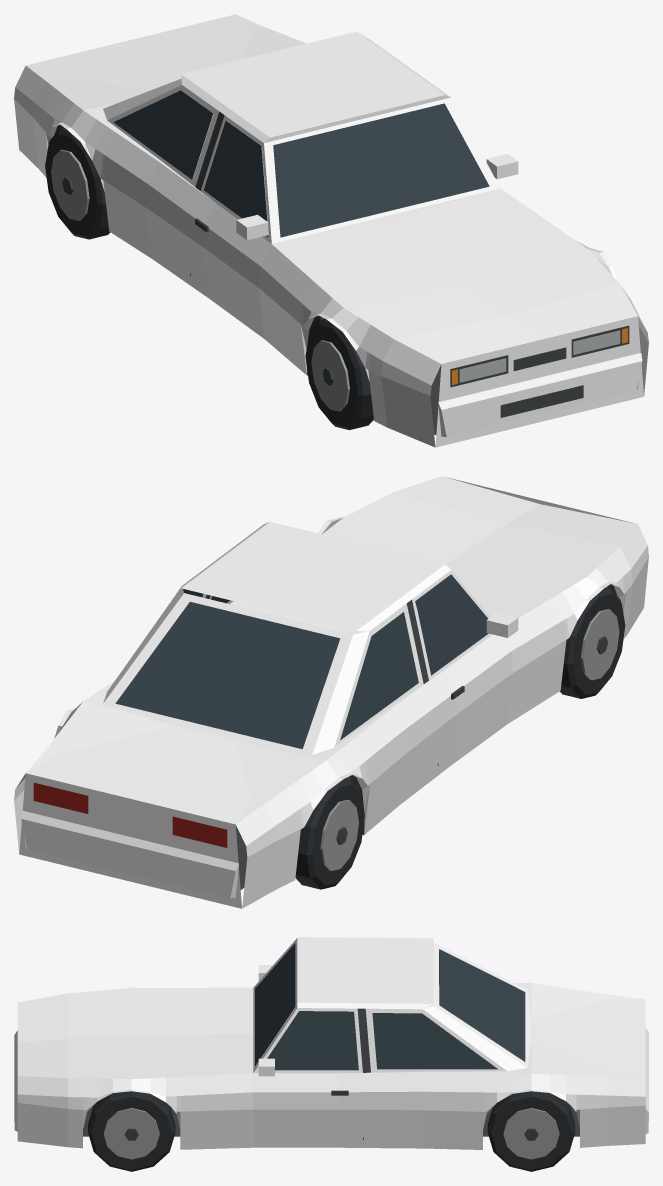
Rendered from wexmoor_rowan.glb.
The picture shows the model from 3 angles, top to bottom: view 1: azimuth 30°, elevation 25°; view 2: azimuth 150°, elevation 25°; view 3: azimuth 270°, elevation 25°; orthographic projection. The views are drawn at different scales.
Visible parts, largest first — view 1: wexmoor_rowan; view 2: wexmoor_rowan; view 3: wexmoor_rowan.
Part boxes in pixels (x1,y1,x2,y2): wexmoor_rowan: [14, 14, 648, 447]; wexmoor_rowan: [14, 476, 648, 908]; wexmoor_rowan: [14, 937, 648, 1171].
Size of the model in its own units: 1.82 by 1.25 by 4.7.
Materials: 8 (1 with a texture image).
